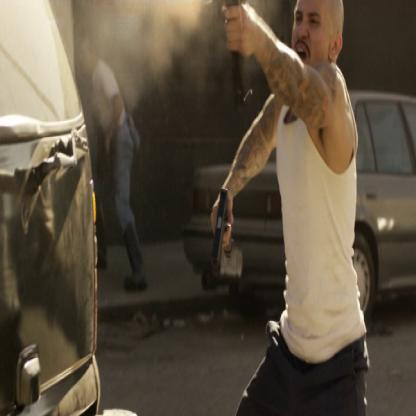Guns: (207, 182, 235, 276)
